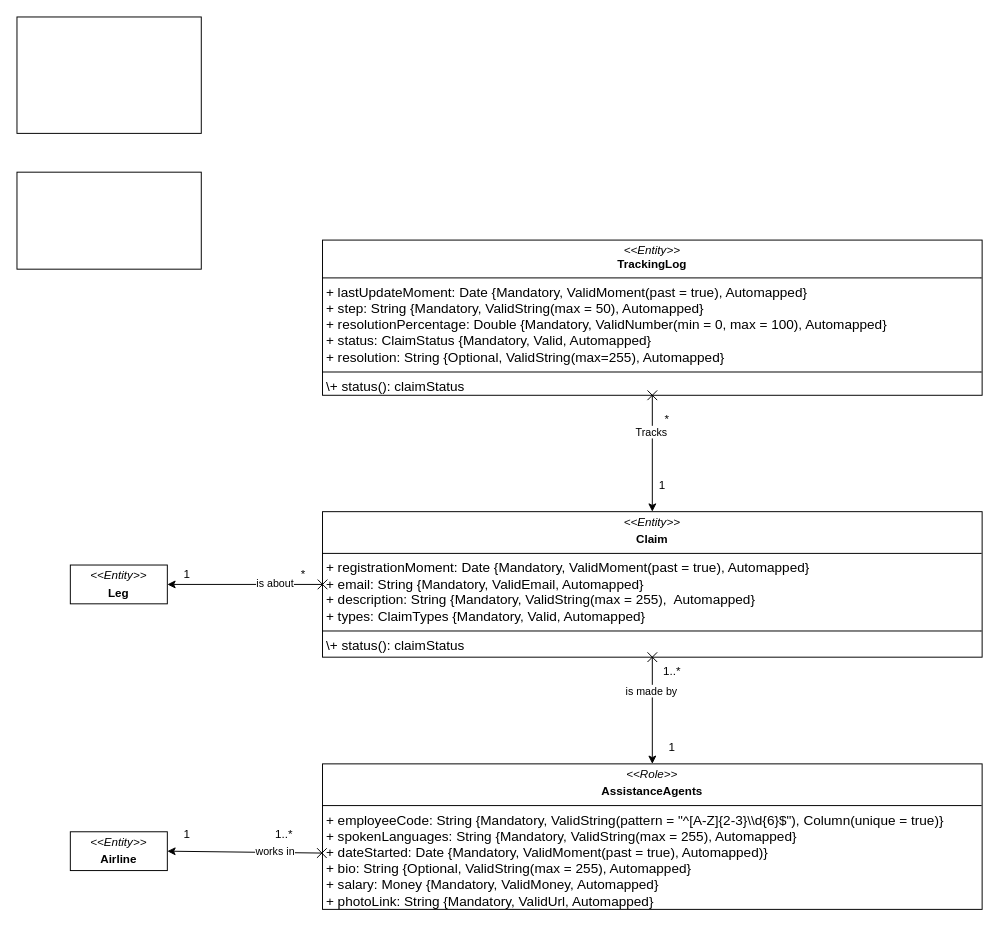
Image size: 999x926. Some labels were removed from this diagram. The shapes that lost their labels are listed below. From the top down, each one's centre as x and y in pixels, then its label:
At [108,74]: "<<ENUM>> ClaimType FLIGHT_ISSUES LUGGAGE_ISSUES SECURITY_INCIDENT OTHER_ISSUES".
At [108,220]: "<<ENUM>> Status PENDING ACCEPTED REJECTED".
